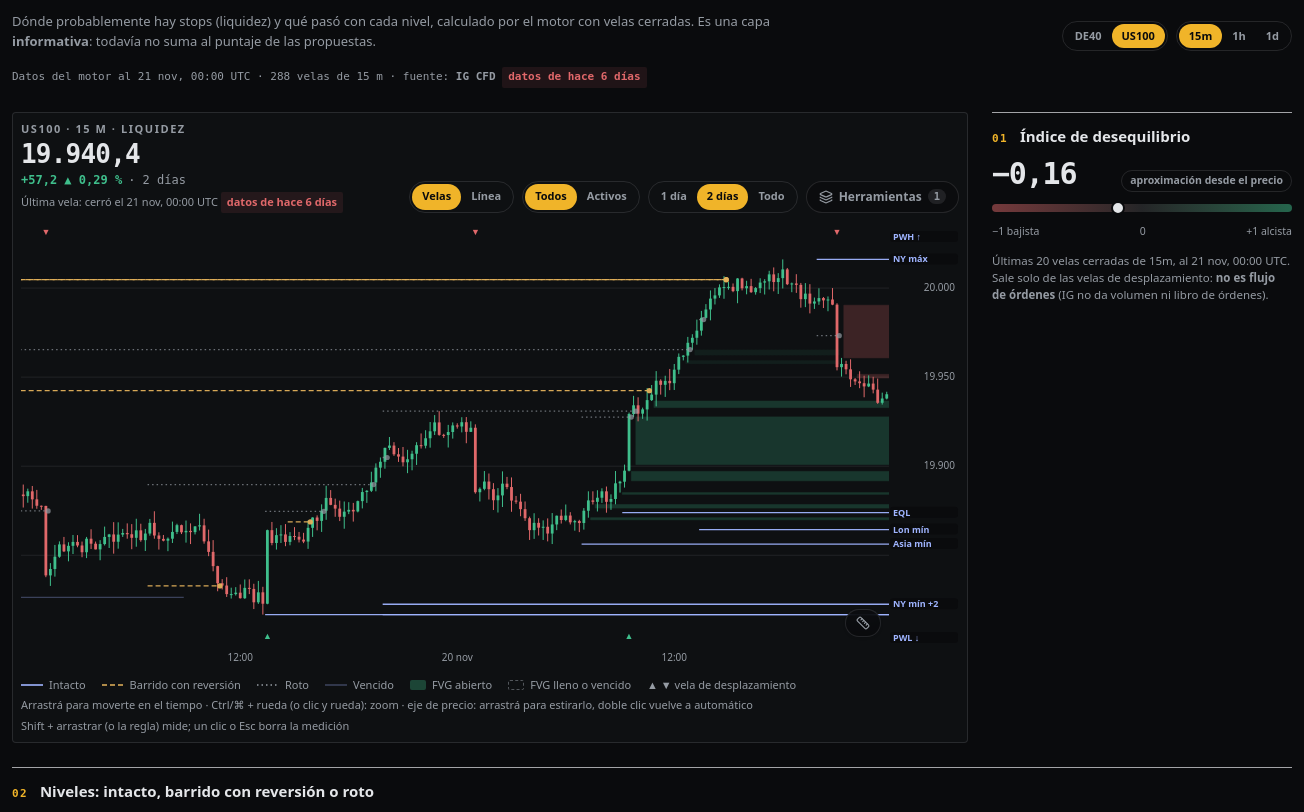
Test: vista de liquidez en vivo (#231) › los selectores piden otro instrumento y timeframe, y el diario usa sus velas
This screenshot has width=1304, height=812.
Expected: the picture named "US100, 192 velas de 15 minutos con 27 niveles de liquidez y" is shown, [21,224,959,664]
Click the button "DE40". click: (1088, 36)
box: [1065,24,1112,48]
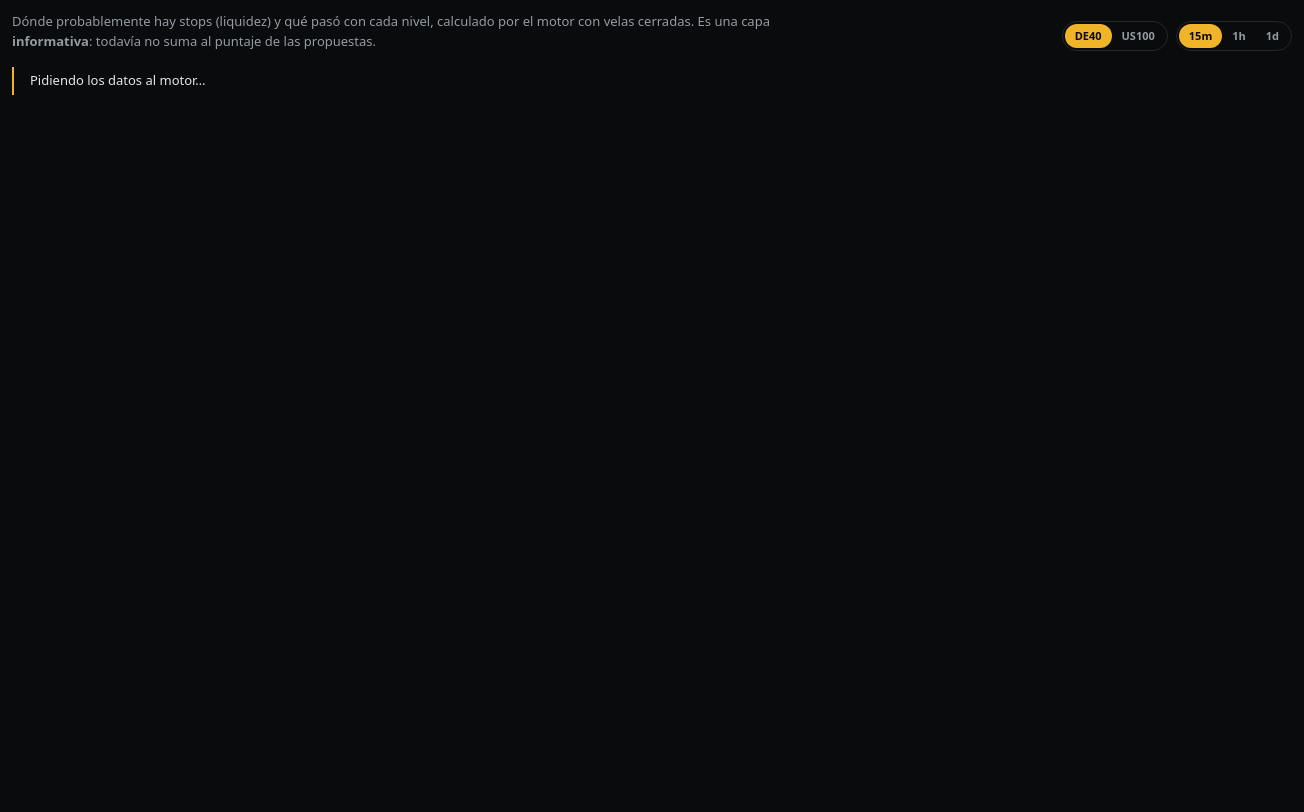
Click the button "1d". click: (1272, 36)
box: [1256,24,1289,48]
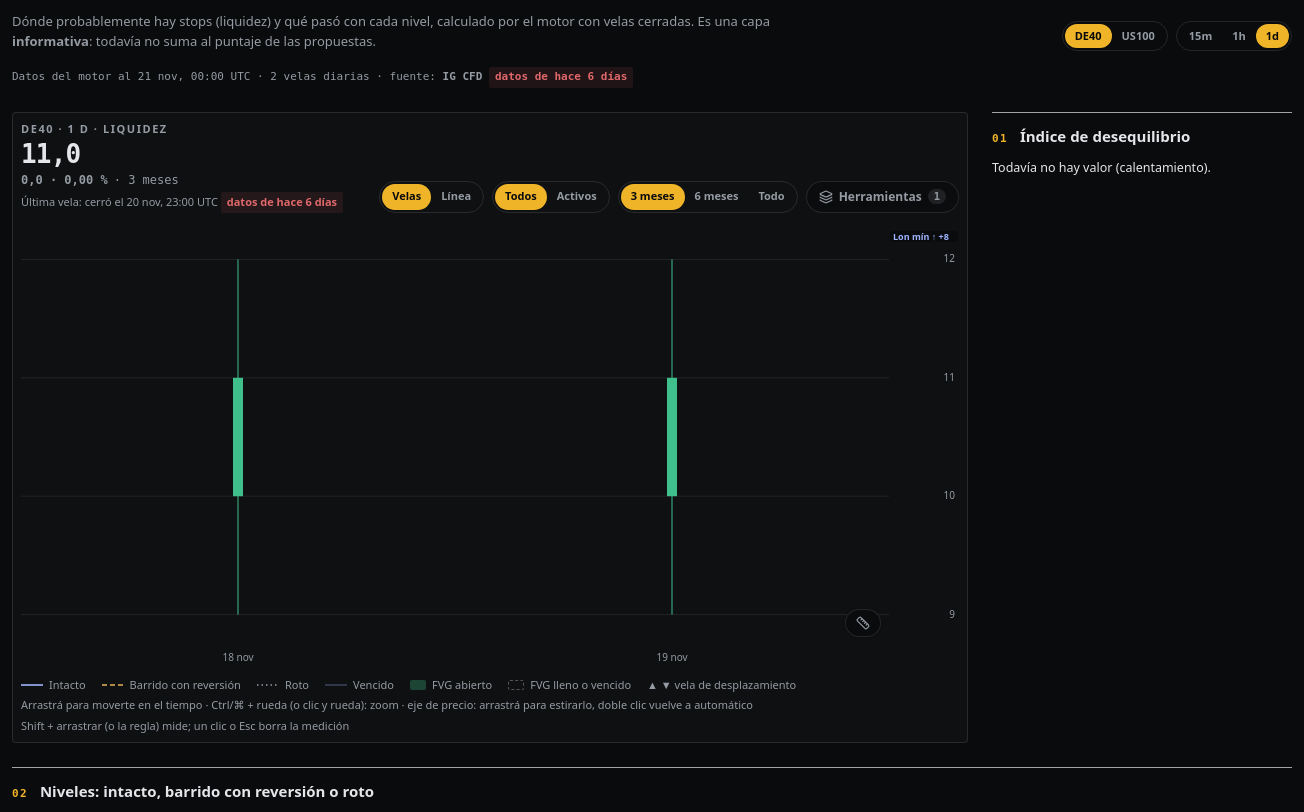
Now the picture named "DE40, 2 velas diarias" is shown, box [21,224,959,664]
